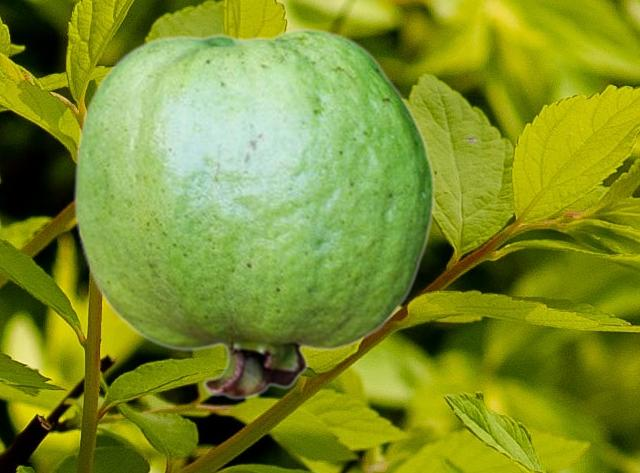guava: (73, 28, 435, 399)
